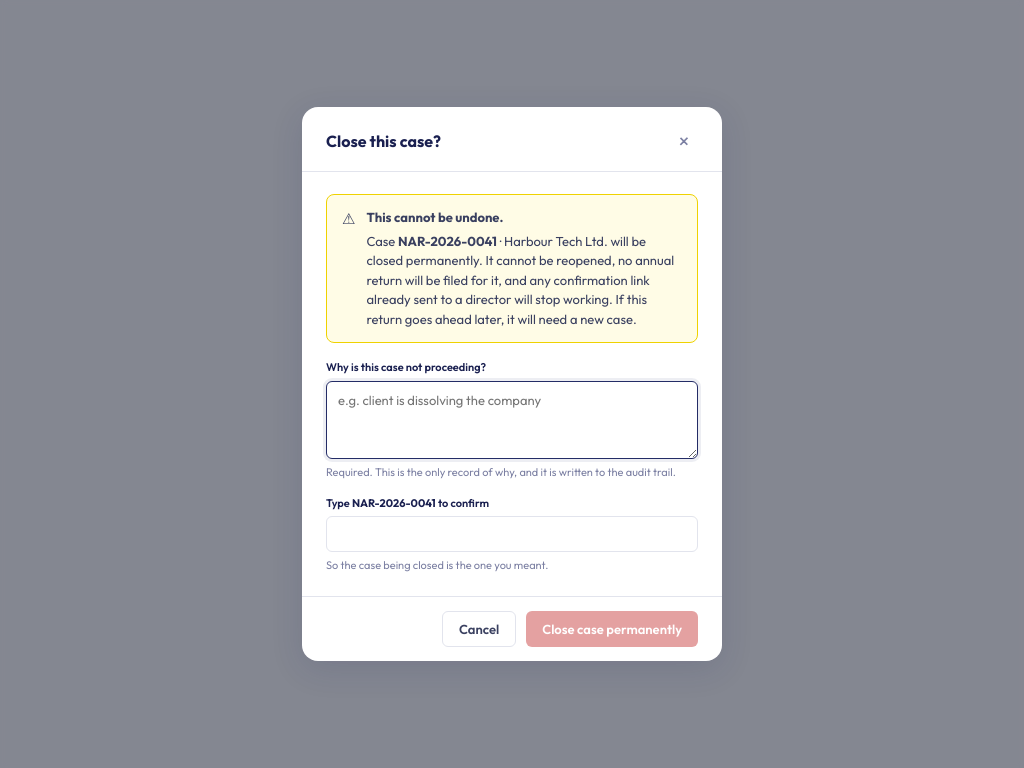
it: CloseCaseModal — the request › shows a refusal in the dialog and lets the operator try again
Type "client is dissolving the company" into the text box labelled "Why is this case not proceeding?" at {"x": 512, "y": 420}, box [326,381,698,459]
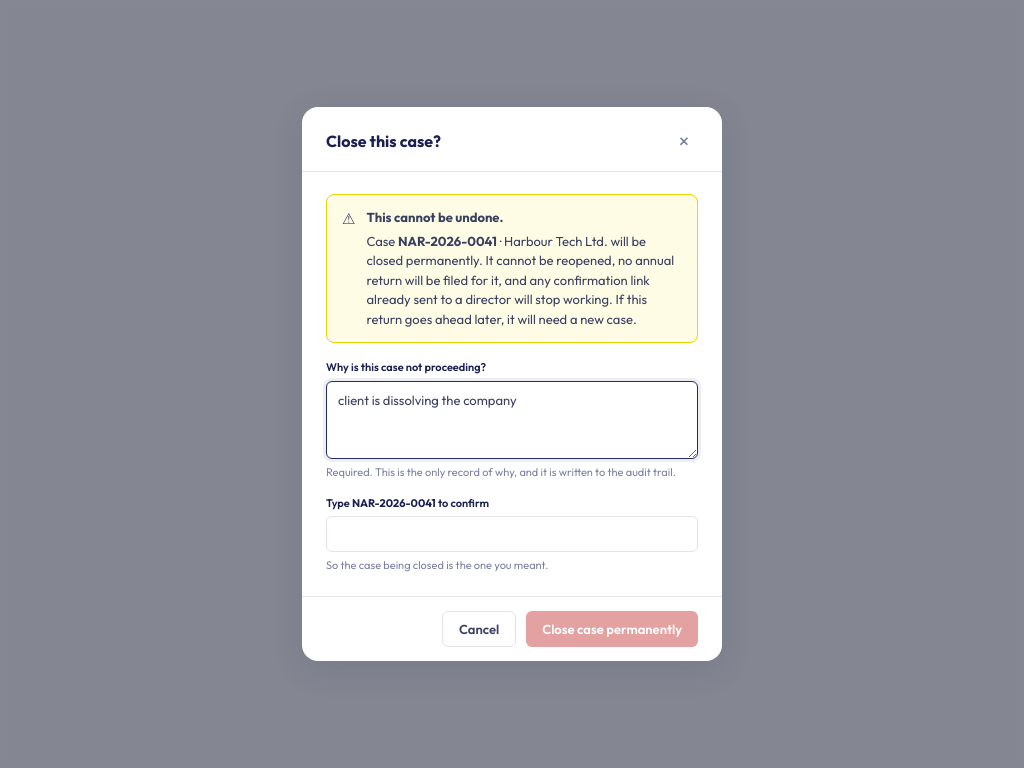
Type "NAR-2026-0041" into the field labelled "Type NAR-2026-0041 to confirm" at {"x": 512, "y": 534}, box [326,516,698,552]
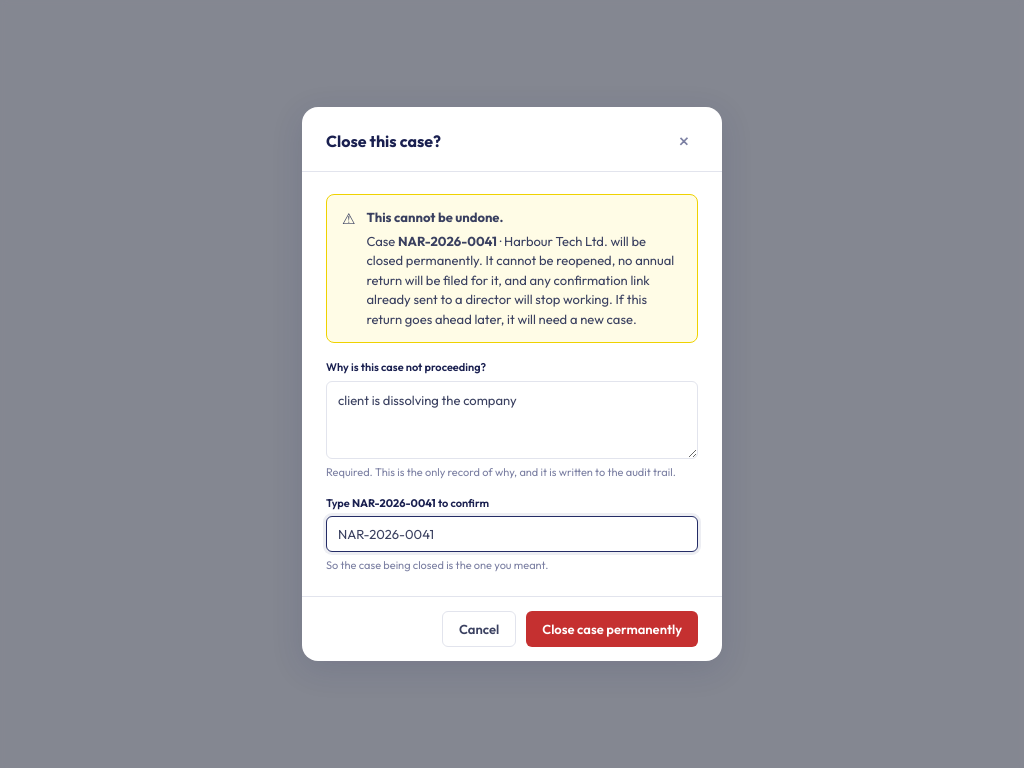
Click the button "Close case permanently" at {"x": 612, "y": 629}, box [526,611,698,647]
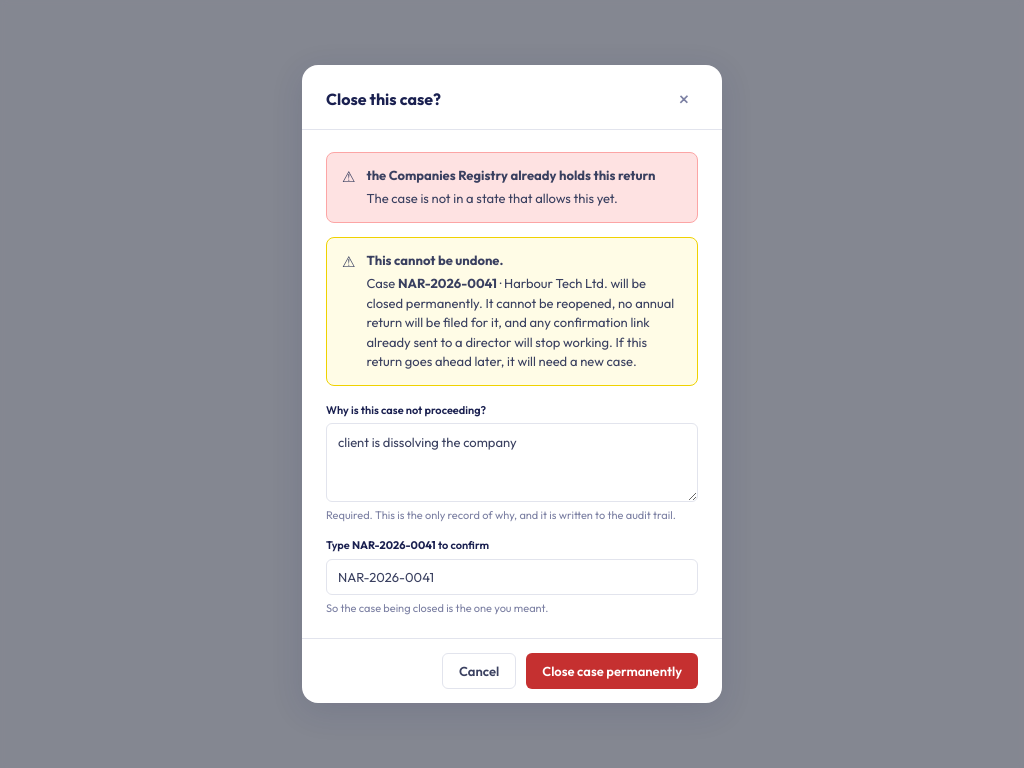
Now the button "Close case permanently" is enabled, box [526,653,698,689]
Now the text "the Companies Registry already holds this return" is shown, box [366,167,655,183]
